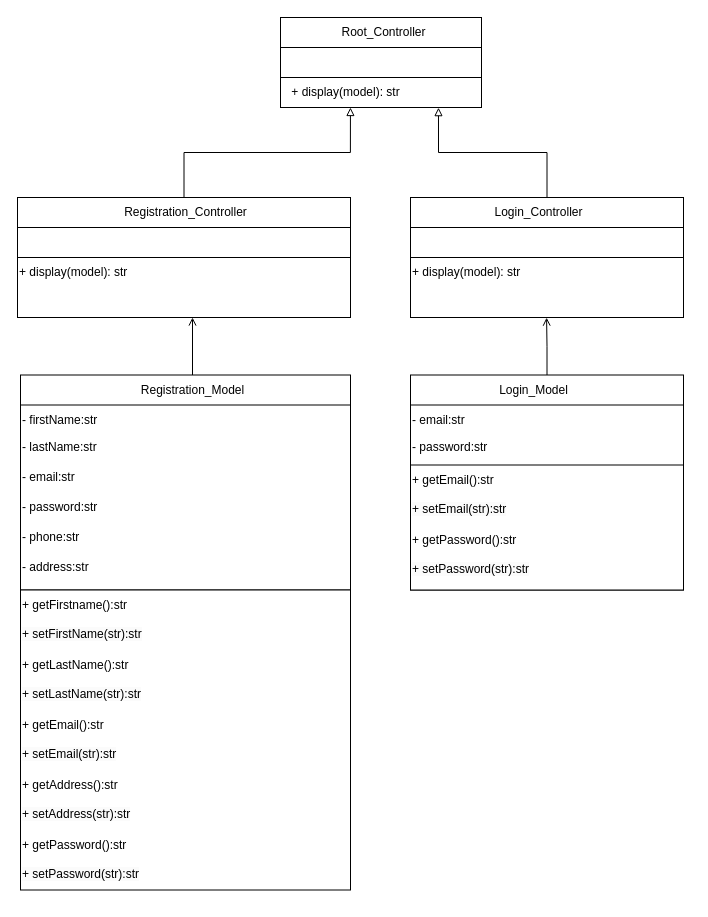
Some shapes in this 708 by 917 pixel diagram are drawn without their labels. The box of each missing label's shape, as (x1, y1, x2, y2) in pixels:
+ doLogin(loginModel, bindingResult, model): str: (410, 256, 684, 318)
+ doRegistration(registrationModel, bindingResult, model): str: (16, 256, 350, 318)
